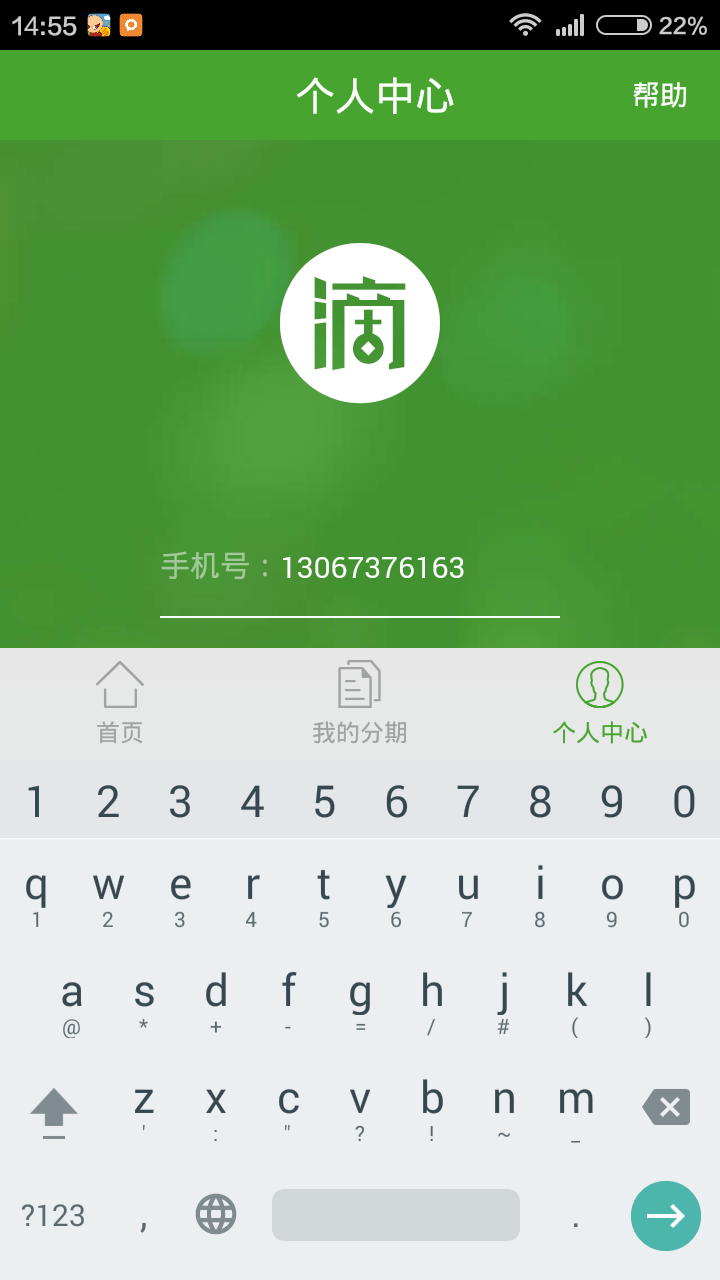imgbutton: (620, 1172, 712, 1257), (623, 1076, 716, 1142), (16, 1080, 90, 1150)
